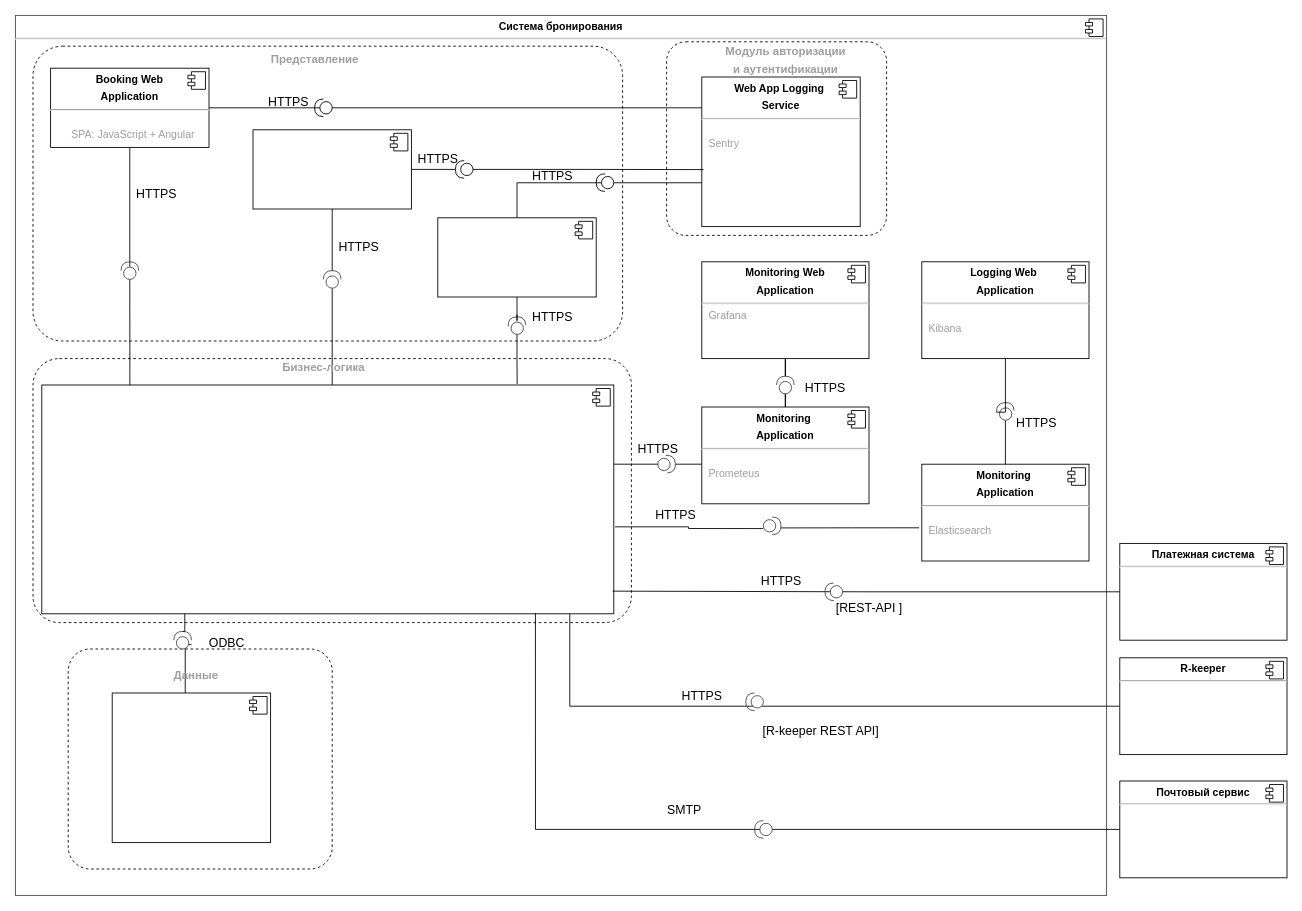
Some shapes in this 1302 by 911 pixel diagram are drawn without their labels. The shapes that lost their labels are listed below. From the top down, each one's centre as x and y in pixels, then its label:
point 331,169: Booking Android Application kotlin
point 516,257: Booking IOS Application Swift
point 327,499: Booking Service Python
point 191,767: Booking Database PostgrySQL
